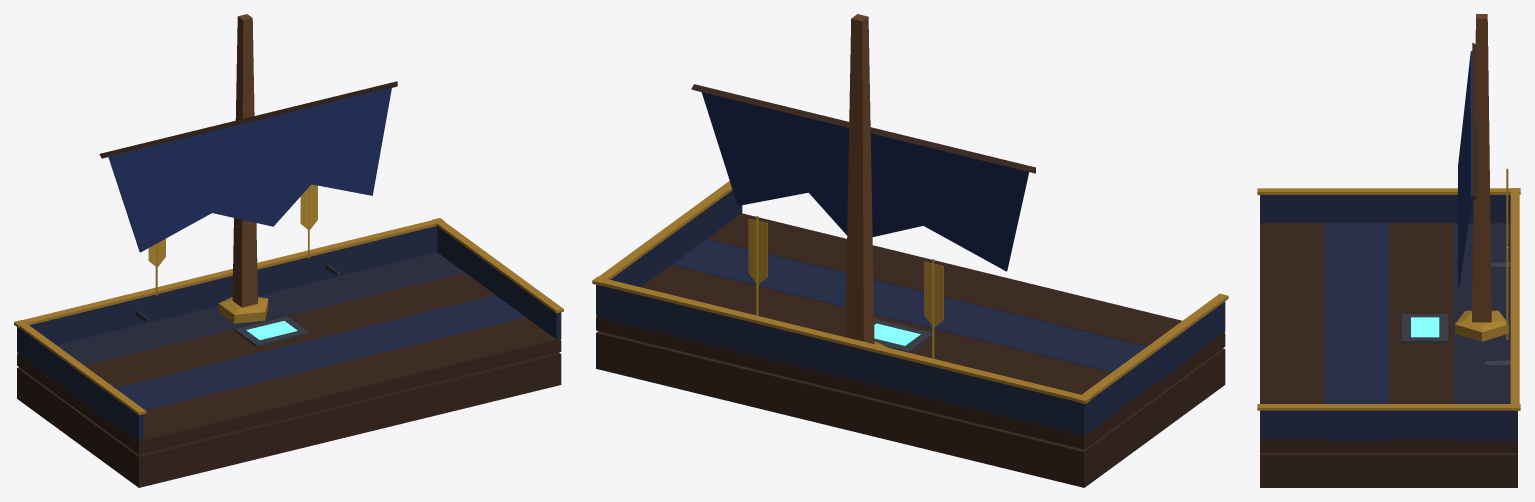
The model's file is SM_Env_DreadnoughtDeck_LQ.glb.
The picture shows the model from 3 angles, left to right: view 1: azimuth 30°, elevation 25°; view 2: azimuth 150°, elevation 25°; view 3: azimuth 270°, elevation 25°; orthographic projection. The views are drawn at different scales.
Parts seen in each view (by area): view 1: SM_Env_DreadnoughtDeck_LQ; view 2: SM_Env_DreadnoughtDeck_LQ; view 3: SM_Env_DreadnoughtDeck_LQ.
Boxes of the visible parts, x1,y1,x2,y2 form: SM_Env_DreadnoughtDeck_LQ: (14, 14, 563, 487); SM_Env_DreadnoughtDeck_LQ: (592, 14, 1228, 487); SM_Env_DreadnoughtDeck_LQ: (1257, 14, 1520, 487).
Bounding box in the file's own units: 20.2 × 15.5 × 10.2.
1 material, 1 textured.
